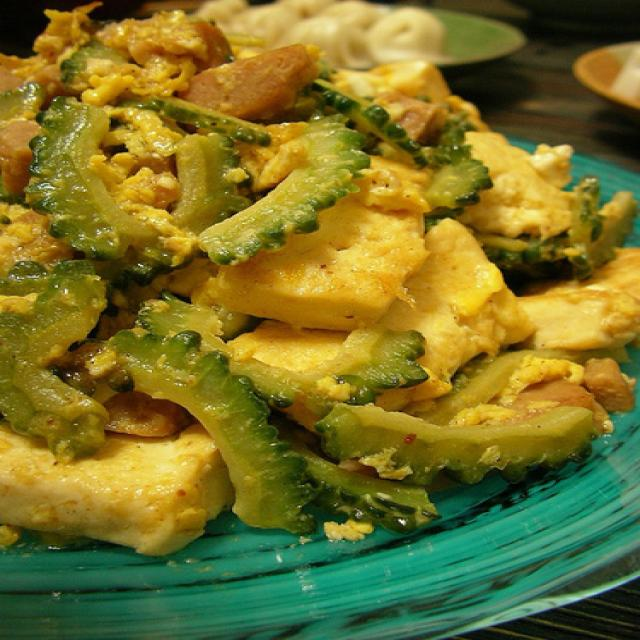熟制海鲜: (0, 0, 637, 640)
